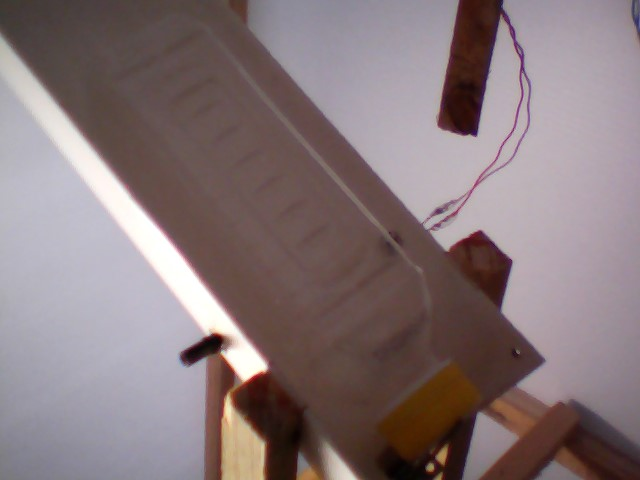plastico: (83, 10, 488, 464)
